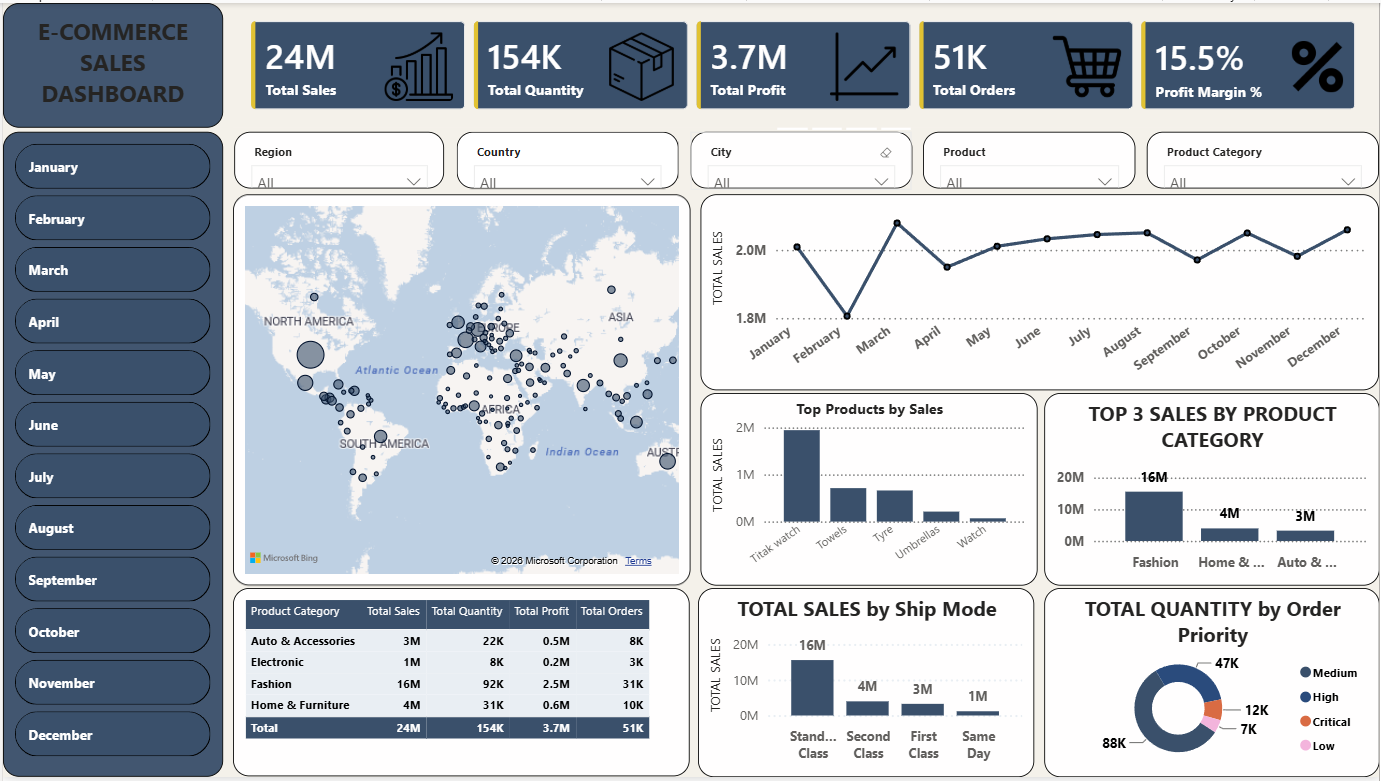

Layout of this report page (visuals, bound fields, positions):
{"tool":"powerbi","page":{"name":"Page 1","canvas":[1280,720],"ordinal":0},"visuals":[{"type":"textbox","box":[9.6,0,194.9,116.6],"z":0},{"type":"advancedSlicerVisual","fields":{"Values":["E-COMMERCE DATA.Order Date.Variation.Date Hierarchy.Month"]},"box":[0,122.1,204.7,597.7],"z":1000},{"type":"slicer","fields":{"Values":["E-COMMERCE DATA.Region"]},"box":[215.6,120,195.5,53],"z":2000},{"type":"slicer","fields":{"Values":["E-COMMERCE DATA.Country"]},"box":[427.5,120.1,206.2,52.9],"z":3000},{"type":"slicer","fields":{"Values":["E-COMMERCE DATA.City"]},"box":[639.5,120.1,206.1,53],"z":4000},{"type":"slicer","fields":{"Values":["E-COMMERCE DATA.Product"]},"box":[856.2,120.1,197.8,52.9],"z":5000},{"type":"columnChart","fields":{"Category":["E-COMMERCE DATA.Ship Mode"],"Y":["E-COMMERCE DATA.TOTAL SALES"]},"box":[649.2,544.7,313.5,175.5],"z":6000},{"type":"pieChart","fields":{"Category":["E-COMMERCE DATA.Order Priority"],"Y":["E-COMMERCE DATA.TOTAL QUANTITY"]},"box":[968.8,544.8,311.5,175.6],"z":7000},{"type":"lineChart","fields":{"Category":["E-COMMERCE DATA.Order Date.Variation.Date Hierarchy.Month","E-COMMERCE DATA.Order Date.Variation.Date Hierarchy.Day"],"Y":["E-COMMERCE DATA.TOTAL SALES"]},"box":[649.2,178.3,631.1,182.5],"z":8000},{"type":"tableEx","fields":{"Values":["E-COMMERCE DATA.Product Category","E-COMMERCE DATA.TOTAL SALES","E-COMMERCE DATA.TOTAL QUANTITY","E-COMMERCE DATA.TOTAL PROFIT","E-COMMERCE DATA.TOTAL ORDERS"]},"box":[215.9,544.7,423.5,175.5],"z":9000},{"type":"clusteredColumnChart","title":"TOP 3 SALES BY PRODUCT CATEGORY ","fields":{"Category":["E-COMMERCE DATA.Product Category"],"Y":["E-COMMERCE DATA.TOTAL SALES"]},"box":[969.3,365.1,310.9,174.3],"z":10000},{"type":"map","fields":{"Category":["E-COMMERCE DATA.Country"],"Size":["CountNonNull(E-COMMERCE DATA.City)"]},"box":[214.5,178.3,424.9,360.8],"z":12000},{"type":"slicer","fields":{"Values":["E-COMMERCE DATA.Product Category"]},"box":[1064.7,120.1,215.9,52.9],"z":13000},{"type":"scatterChart","title":"Discount vs Profit – Top 10 Products","fields":{"Category":["E-COMMERCE DATA.Product"],"X":["E-COMMERCE DATA.AVERAGE DISCOUNT"],"Y":["E-COMMERCE DATA.TOTAL PROFIT"]},"box":[649,362.8,313.3,179],"z":14000},{"type":"cardVisual","fields":{"Data":["E-COMMERCE DATA.TOTAL SALES","E-COMMERCE DATA.TOTAL QUANTITY","E-COMMERCE DATA.TOTAL PROFIT","E-COMMERCE DATA.TOTAL ORDERS","E-COMMERCE DATA.PROFIT MARGIN %"]},"box":[214.4,0,1065.9,116.6],"z":15000}]}

Visuals, with their boxes in screenshot pixels (x1, y1, x2, y2), scaled from the page's 1280x720 canvas onto the 1381x781 screenshot:
textbox: BBox(10, 0, 221, 126)
advancedSlicerVisual - E-COMMERCE DATA.Order Date.Variation.Date Hierarchy.Month: BBox(0, 132, 221, 780)
slicer - E-COMMERCE DATA.Region: BBox(233, 130, 444, 188)
slicer - E-COMMERCE DATA.Country: BBox(461, 130, 684, 188)
slicer - E-COMMERCE DATA.City: BBox(690, 130, 912, 188)
slicer - E-COMMERCE DATA.Product: BBox(924, 130, 1137, 188)
columnChart - E-COMMERCE DATA.Ship Mode x E-COMMERCE DATA.TOTAL SALES: BBox(700, 591, 1039, 780)
pieChart - E-COMMERCE DATA.Order Priority x E-COMMERCE DATA.TOTAL QUANTITY: BBox(1045, 591, 1380, 780)
lineChart - E-COMMERCE DATA.Order Date.Variation.Date Hierarchy.Month x E-COMMERCE DATA.Order Date.Variation.Date Hierarchy.Day: BBox(700, 193, 1380, 391)
tableEx - E-COMMERCE DATA.Product Category x E-COMMERCE DATA.TOTAL SALES: BBox(233, 591, 690, 780)
"TOP 3 SALES BY PRODUCT CATEGORY " clusteredColumnChart: BBox(1046, 396, 1380, 585)
map - E-COMMERCE DATA.Country x CountNonNull(E-COMMERCE DATA.City): BBox(231, 193, 690, 585)
slicer - E-COMMERCE DATA.Product Category: BBox(1149, 130, 1380, 188)
"Discount vs Profit – Top 10 Products" scatterChart: BBox(700, 394, 1038, 588)
cardVisual - E-COMMERCE DATA.TOTAL SALES x E-COMMERCE DATA.TOTAL QUANTITY: BBox(231, 0, 1380, 126)
